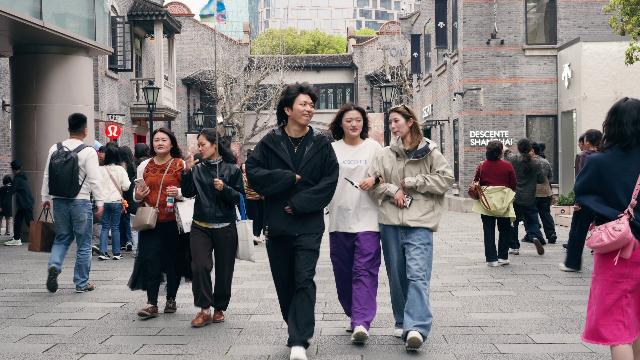person: (244, 82, 340, 360), (358, 103, 455, 350), (574, 97, 640, 360), (180, 128, 246, 327), (328, 102, 382, 344), (127, 127, 193, 317), (38, 112, 105, 294), (558, 128, 603, 273), (471, 141, 518, 267), (497, 138, 546, 255), (90, 146, 131, 261), (530, 142, 558, 244), (2, 160, 35, 246), (130, 143, 151, 258), (0, 174, 13, 236), (574, 135, 588, 177), (97, 145, 105, 167)
